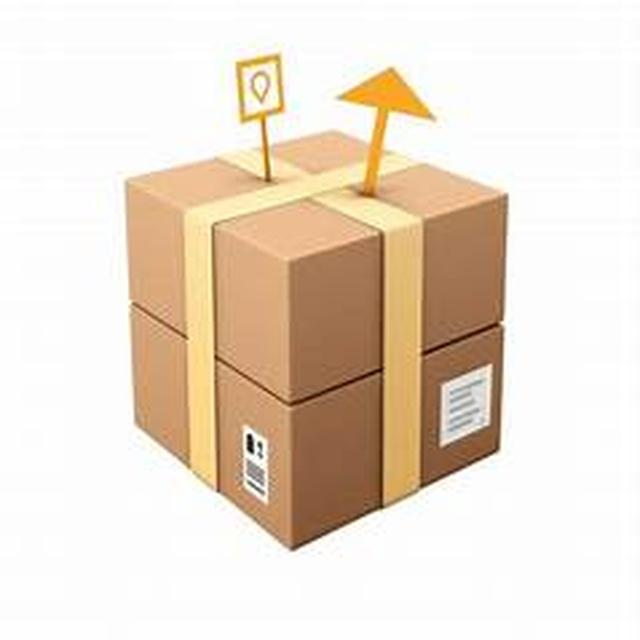box: (116, 99, 534, 587)
